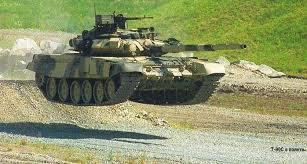tank: (30, 8, 256, 119)
